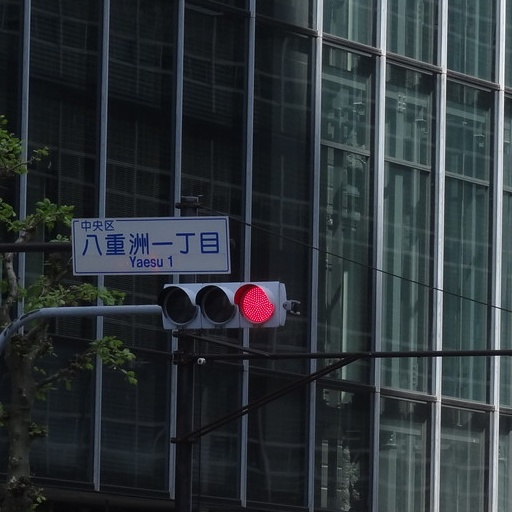Traffic_Signal_Red: (149, 274, 293, 336)
